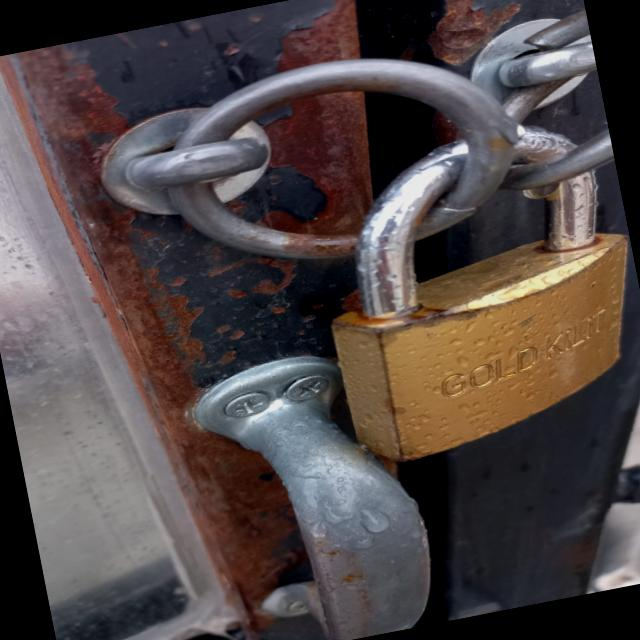Phillips: (215, 389, 273, 422), (280, 372, 332, 407)
